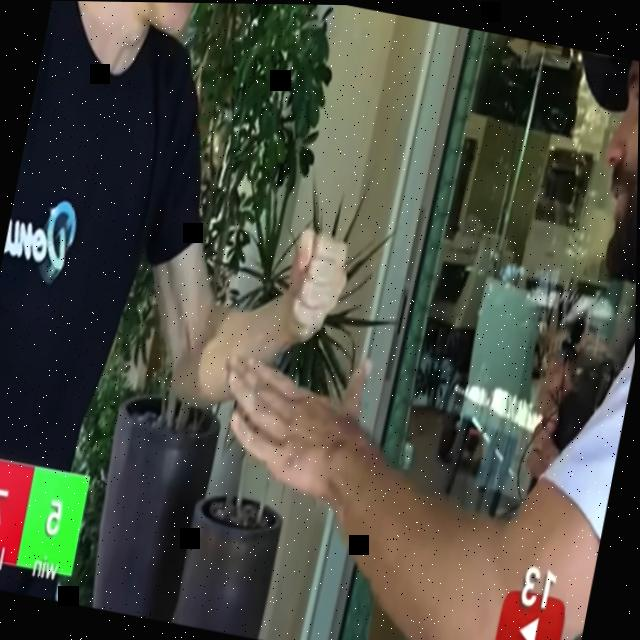Paper: (206, 332, 371, 503)
Rock: (276, 222, 357, 351)
